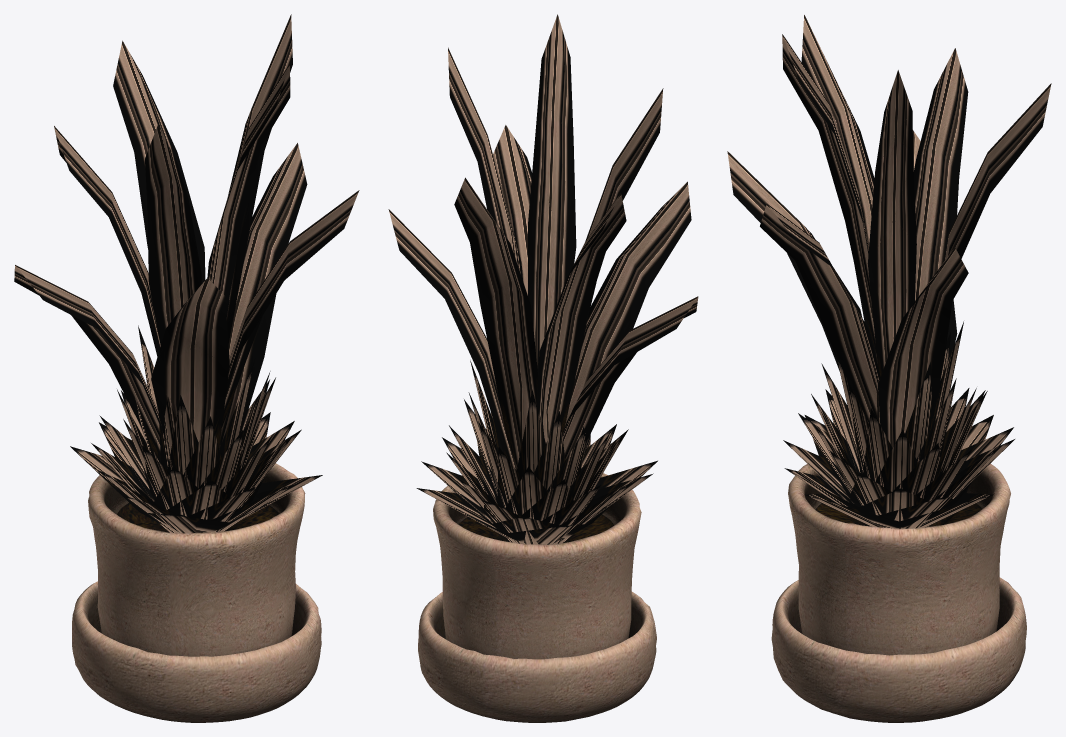
The model's file is Plant.fbx.
3 renders of one model, left to right at view 1: azimuth 30°, elevation 25°; view 2: azimuth 150°, elevation 25°; view 3: azimuth 270°, elevation 25°, orthographic. The views are drawn at different scales.
Visible parts, largest first — view 1: Low-Poly Plant_.001, Low-Poly Plant_; view 2: Low-Poly Plant_.001, Low-Poly Plant_; view 3: Low-Poly Plant_.001, Low-Poly Plant_.
Part boxes in pixels (left/top/right/bottom): Low-Poly Plant_.001: left=14, top=14, right=359, bottom=533; Low-Poly Plant_: left=72, top=463, right=321, bottom=722; Low-Poly Plant_.001: left=388, top=14, right=698, bottom=544; Low-Poly Plant_: left=418, top=473, right=656, bottom=722; Low-Poly Plant_.001: left=727, top=15, right=1051, bottom=528; Low-Poly Plant_: left=771, top=463, right=1026, bottom=722.
Bounding box in the file's own units: 65.33 × 135 × 59.29.
